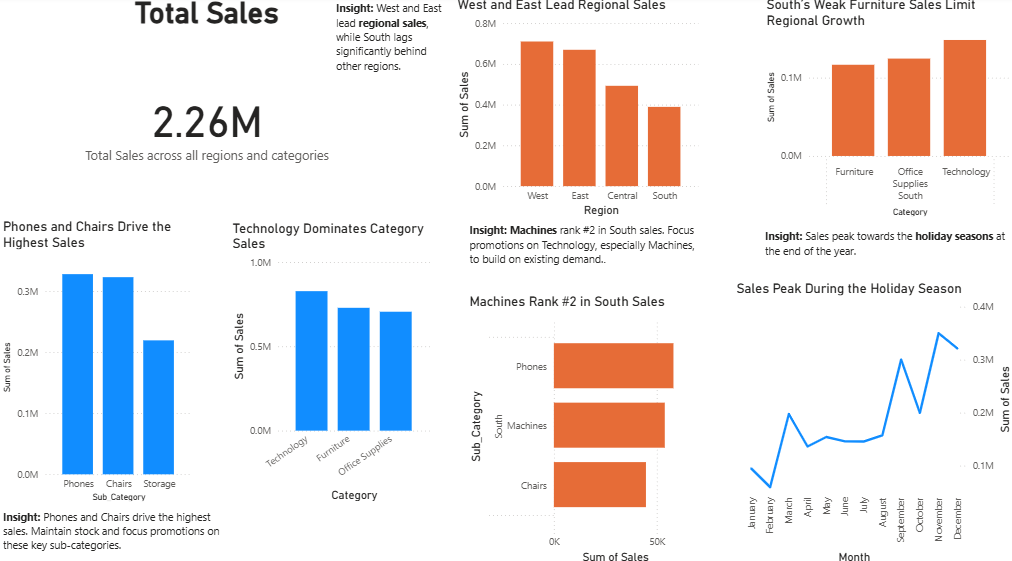

The page's visual inventory and layout, read from the dashboard file:
{"tool":"powerbi","page":{"name":"Page 1","canvas":[1280,720],"ordinal":0},"visuals":[{"type":"columnChart","title":"Phones and Chairs Drive the Highest Sales","fields":{"Y":["Sum(Sales Table.Sales)"],"Category":["Sales Table.Sub_Category"]},"box":[0,281.6,247.6,360.9],"z":0},{"type":"columnChart","title":"West and East Lead Regional Sales","fields":{"Y":["Sum(Sales Table.Sales)"],"Category":["Sales Table.Region"]},"box":[572.6,1.9,313.7,281.6],"z":1000},{"type":"columnChart","title":"Technology Dominates Category Sales","fields":{"Y":["Sum(Sales Table.Sales)"],"Category":["Sales Table.Category"]},"box":[289.1,283.5,258.9,359.1],"z":2000},{"type":"barChart","title":"Machines Rank #2 in South Sales","fields":{"Category":["Sales Table.Region","Sales Table.Sub_Category"],"Y":["Sum(Sales Table.Sales)"]},"box":[587.7,376.1,281.6,343.9],"z":3000},{"type":"columnChart","title":"South’s Weak Furniture Sales Limit Regional Growth","fields":{"Category":["Sales Table.Region","Sales Table.Category"],"Y":["Sum(Sales Table.Sales)"]},"box":[961.9,1.9,317.5,281.6],"z":4000},{"type":"lineChart","title":"Sales Peak During the Holiday Season","fields":{"Y2":["Sum(Sales Table.Sales)"],"Category":["Sales Table.Order_Date.Variation.Date Hierarchy.Month"]},"box":[924.1,359.1,355.3,360.9],"z":5000},{"type":"card","title":"Total Sales","fields":{"Values":["Sum(Sales Table.Sales)"]},"box":[0,0,523.5,283.5],"z":6000},{"type":"textbox","box":[419.5,1.9,153.1,105.8],"z":7000},{"type":"textbox","box":[587.7,281.6,300.5,68],"z":8000},{"type":"textbox","box":[0,642.5,300.5,77.5],"z":9000},{"type":"textbox","box":[960,289.1,319.4,56.7],"z":10000}]}

Visuals, with their boxes in screenshot pixels (x1, y1, x2, y2), scaled from the page's 1280x720 canvas onto the 1012x561 screenshot:
"Phones and Chairs Drive the Highest Sales" columnChart: (0,219,196,501)
"West and East Lead Regional Sales" columnChart: (453,1,701,221)
"Technology Dominates Category Sales" columnChart: (229,221,433,501)
"Machines Rank #2 in South Sales" barChart: (465,293,687,560)
"South’s Weak Furniture Sales Limit Regional Growth" columnChart: (761,1,1011,221)
"Sales Peak During the Holiday Season" lineChart: (731,280,1011,560)
"Total Sales" card: (0,0,414,221)
textbox: (332,1,453,84)
textbox: (465,219,702,272)
textbox: (0,501,238,560)
textbox: (759,225,1011,269)
